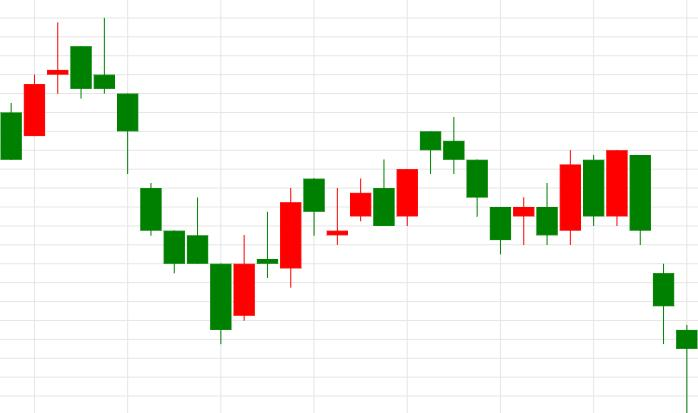three_black_crows_fall: (326, 115, 511, 254)
